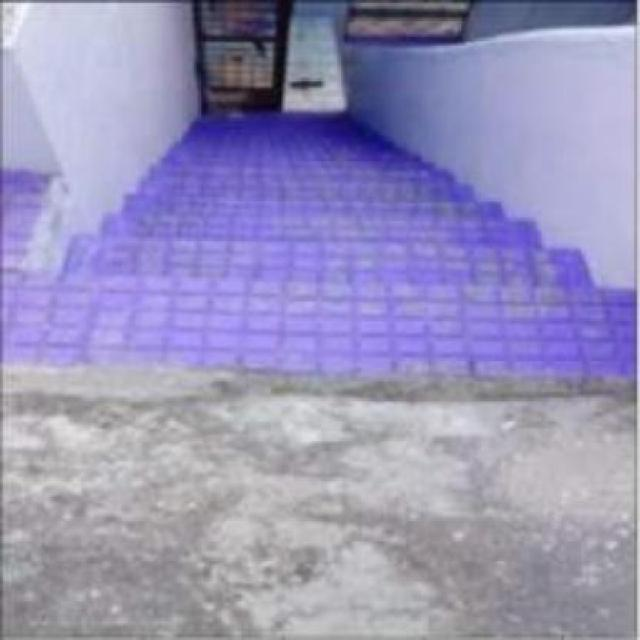stair: (81, 101, 624, 324)
